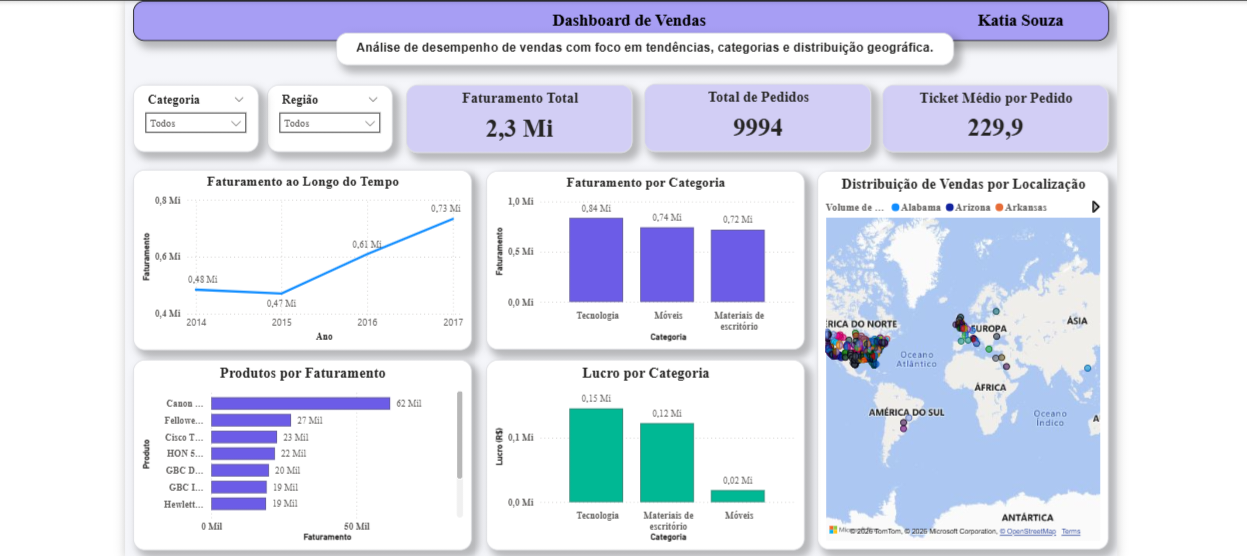

What the dashboard file says about the page in this screenshot:
{"tool":"powerbi","page":{"name":"Página 1","canvas":[1280,720],"ordinal":0},"visuals":[{"type":"textbox","box":[10.1,0,1259.3,52],"z":0},{"type":"textbox","box":[271.8,41.9,796.6,41.9],"z":1},{"type":"card","title":"Faturamento Total","fields":{"Values":["vendas.Faturamento"]},"box":[362.9,108.4,292,88.2],"z":2},{"type":"card","title":"Total de Pedidos","fields":{"Values":["vendas.Pedidos"]},"box":[669.4,107,293.5,88.2],"z":3},{"type":"card","title":"Ticket Médio por Pedido","fields":{"Values":["vendas.Ticket Medio"]},"box":[977.3,108.4,292,86.7],"z":4},{"type":"slicer","fields":{"Values":["vendas.Region"]},"box":[183.6,108.4,161.9,86.7],"z":5},{"type":"slicer","fields":{"Values":["vendas.Category"]},"box":[10.1,108.4,161.9,86.7],"z":6},{"type":"lineChart","title":"Faturamento ao Longo do Tempo","fields":{"Category":["vendas.Order Date.Variation.Hierarquia de datas.Ano","vendas.Order Date.Variation.Hierarquia de datas.Mês"],"Y":["Sum(vendas.Sales)"]},"box":[10.1,218.3,436.6,232.8],"z":7},{"type":"columnChart","title":"Faturamento por Categoria","fields":{"Category":["vendas.Category"],"Y":["Sum(vendas.Sales)"]},"box":[465.5,219.8,410.6,231.3],"z":8},{"type":"map","title":"Distribuição de Vendas por Localização","fields":{"Category":["vendas.City"],"Series":["vendas.State"]},"box":[893.5,219.8,375.9,488.7],"z":9},{"type":"barChart","title":"Produtos por Faturamento","fields":{"Category":["vendas.Product Name"],"Y":["Sum(vendas.Sales)"]},"box":[10.1,462.7,436.6,245.8],"z":10},{"type":"columnChart","title":"Lucro por Categoria","fields":{"Category":["vendas.Category"],"Y":["Sum(vendas.Profit)"]},"box":[465.5,462.7,410.6,245.8],"z":11}]}

Visuals, with their boxes in screenshot pixels (x1, y1, x2, y2):
textbox: box(147, 6, 1105, 46)
textbox: box(346, 38, 952, 70)
"Faturamento Total" card: box(416, 89, 638, 156)
"Total de Pedidos" card: box(649, 88, 872, 155)
"Ticket Médio por Pedido" card: box(883, 89, 1105, 155)
slicer - vendas.Region: box(279, 89, 402, 155)
slicer - vendas.Category: box(147, 89, 270, 155)
"Faturamento ao Longo do Tempo" lineChart: box(147, 173, 479, 350)
"Faturamento por Categoria" columnChart: box(494, 174, 806, 350)
"Distribuição de Vendas por Localização" map: box(819, 174, 1105, 545)
"Produtos por Faturamento" barChart: box(147, 358, 479, 545)
"Lucro por Categoria" columnChart: box(494, 358, 806, 545)
